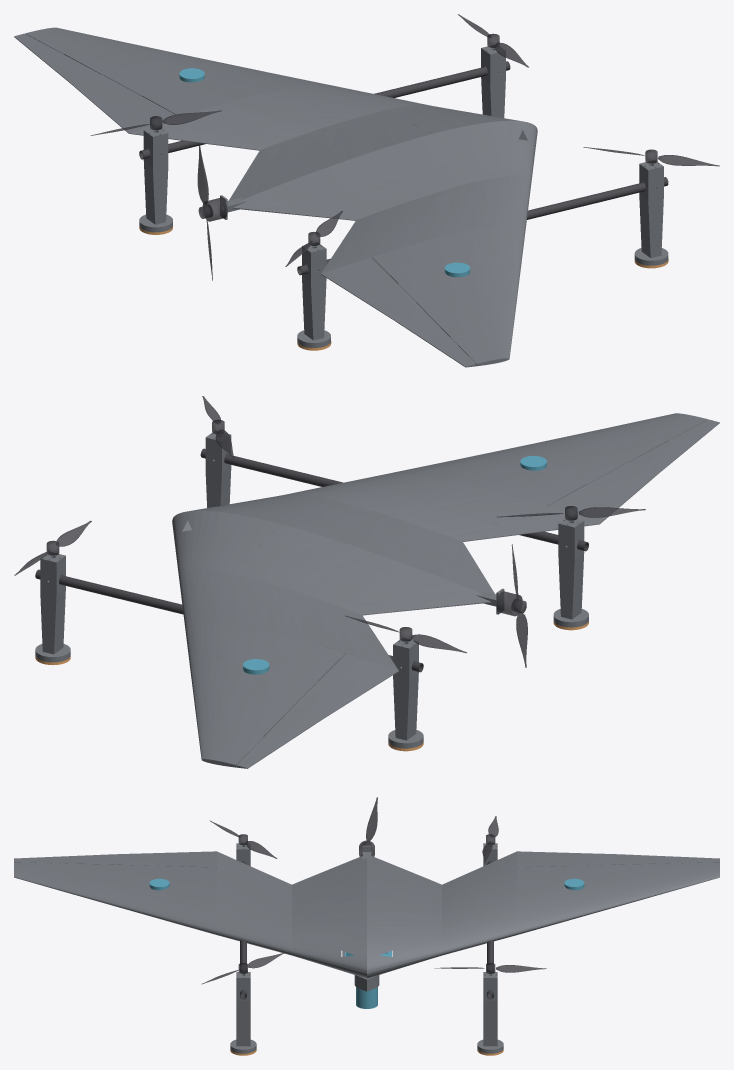
Rendered from astraeus.glb.
The picture shows the model from 3 angles, top to bottom: view 1: azimuth 30°, elevation 25°; view 2: azimuth 150°, elevation 25°; view 3: azimuth 270°, elevation 25°; orthographic projection. The views are drawn at different scales.
Parts seen in each view (by area): view 1: Astraeus V1; view 2: Astraeus V1; view 3: Astraeus V1.
Boxes of the visible parts, bbox=[...] form: Astraeus V1: bbox=[14, 14, 719, 367]; Astraeus V1: bbox=[14, 396, 719, 768]; Astraeus V1: bbox=[14, 797, 719, 1055].
Bounding box in the file's own units: 0.9025 × 0.283 × 1.6.
